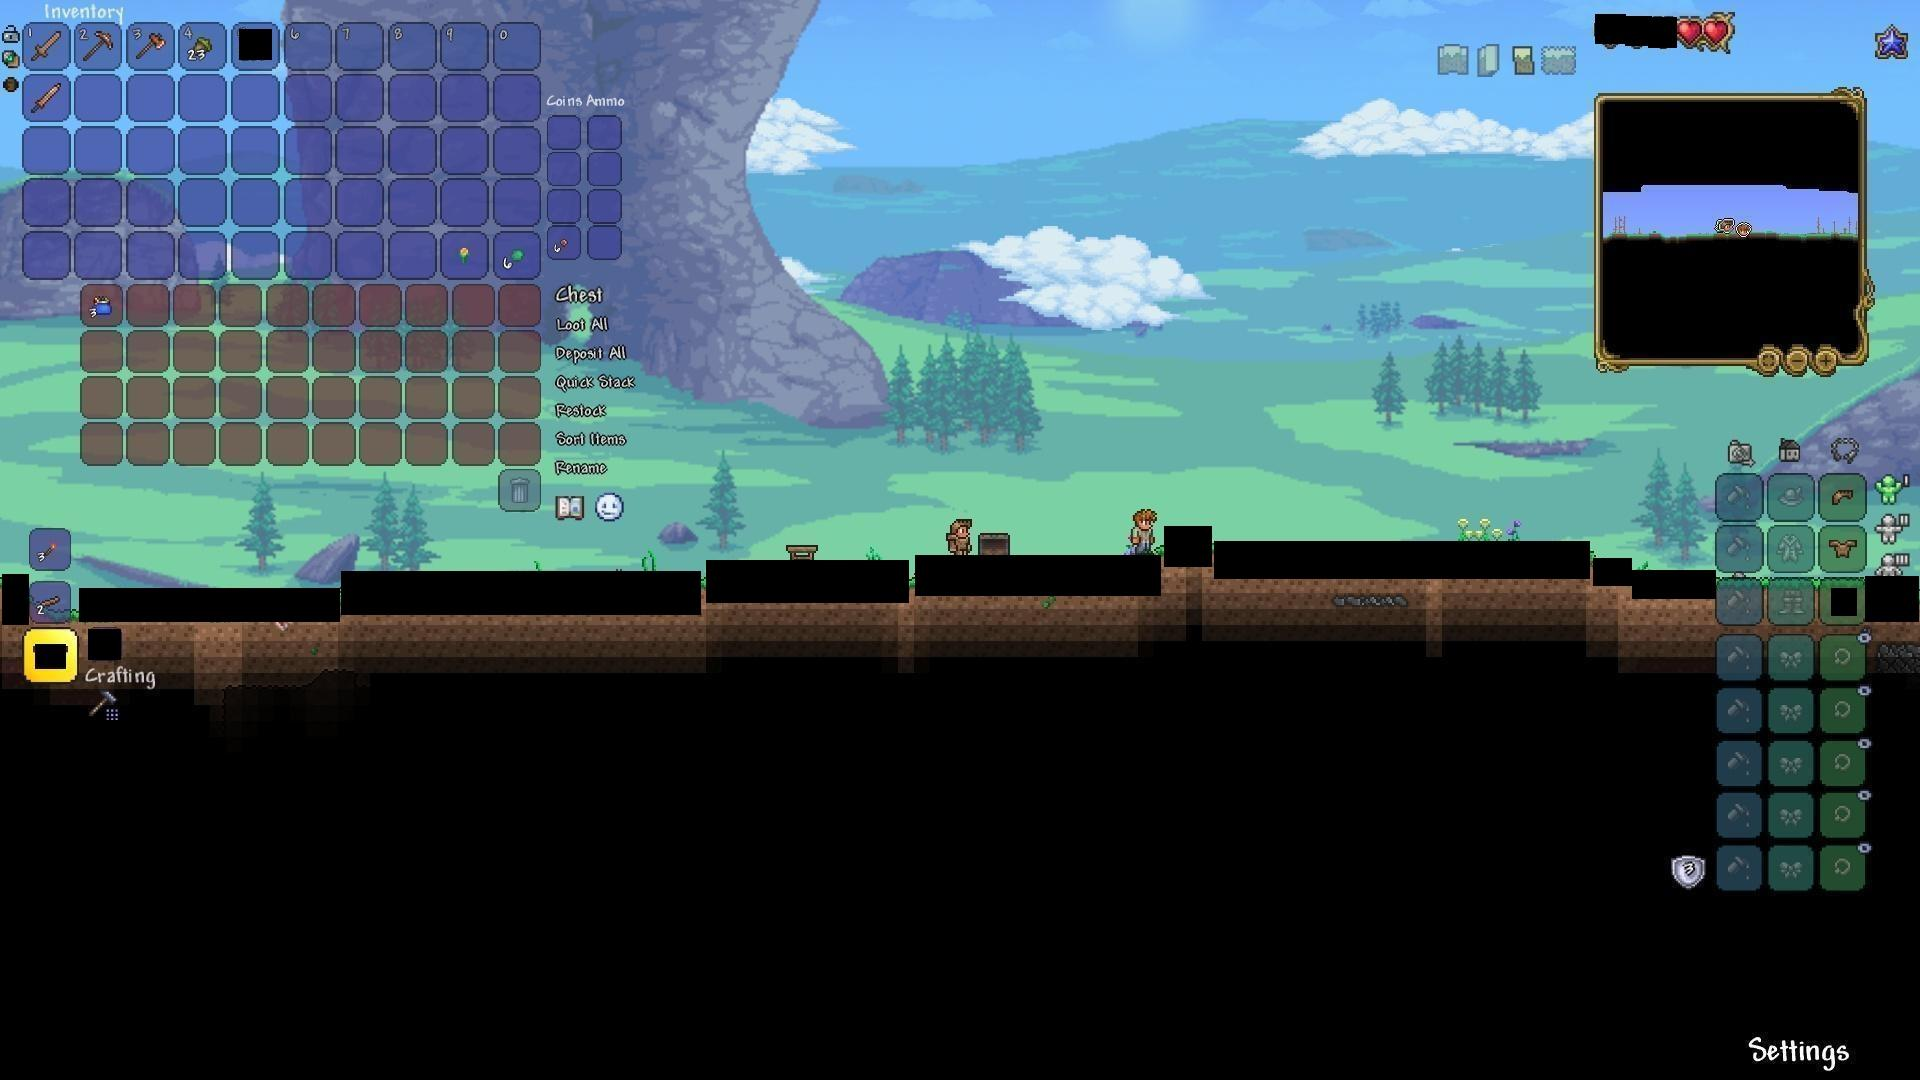breastplate: (1829, 537, 1859, 558)
heart: (1704, 16, 1731, 47), (1675, 16, 1702, 47)
helmet: (1826, 483, 1858, 512)
workbench: (782, 541, 819, 564)
